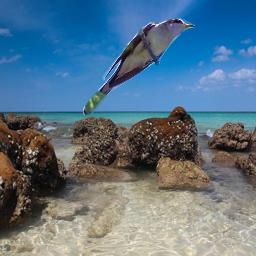Cuckoo: (83, 18, 195, 115)
